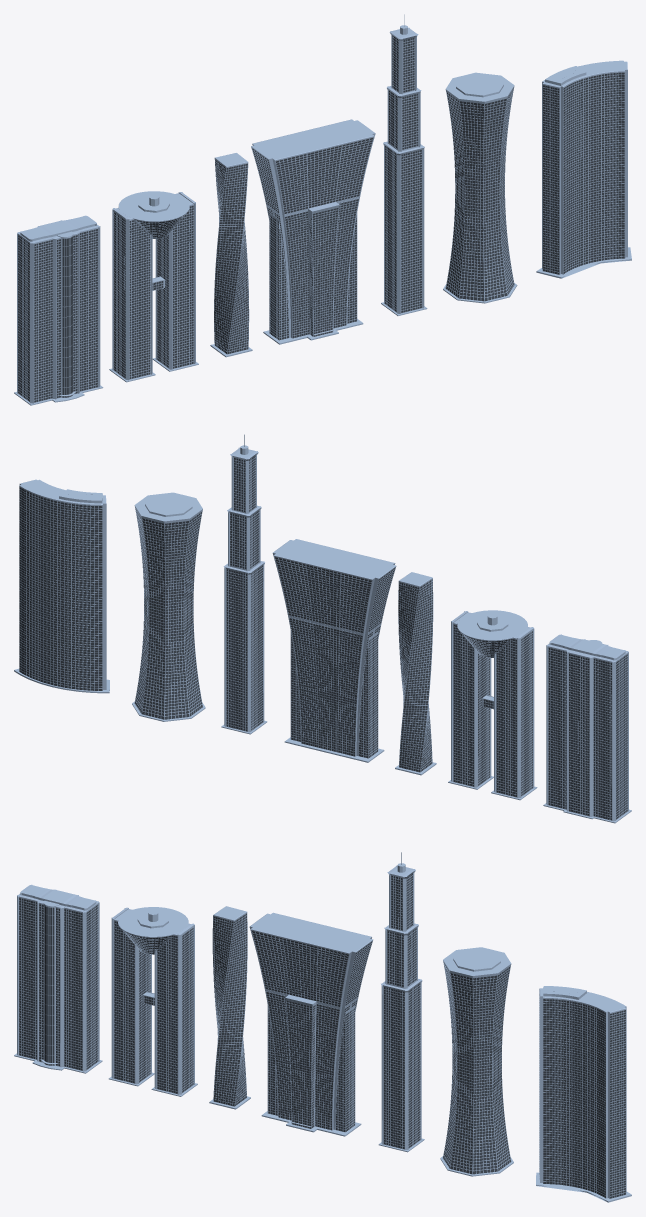
The model's file is Skyscrapers.fbx.
The picture shows the model from 3 angles, top to bottom: view 1: azimuth 30°, elevation 25°; view 2: azimuth 150°, elevation 25°; view 3: azimuth 330°, elevation 25°; orthographic projection.
Visible parts, largest first — view 1: Skyscraper4, Skyscraper7, Skyscraper1, Skyscraper2, Skyscraper6, Skyscraper5, Skyscraper3; view 2: Skyscraper4, Skyscraper7, Skyscraper2, Skyscraper1, Skyscraper6, Skyscraper5, Skyscraper3; view 3: Skyscraper4, Skyscraper7, Skyscraper2, Skyscraper1, Skyscraper6, Skyscraper5, Skyscraper3.
Boxes of the visible parts, x1,y1,x2,y2 form: Skyscraper4: [251, 119, 375, 344]; Skyscraper7: [536, 60, 631, 278]; Skyscraper1: [14, 215, 103, 405]; Skyscraper2: [109, 191, 198, 382]; Skyscraper6: [443, 72, 517, 303]; Skyscraper5: [381, 14, 427, 315]; Skyscraper3: [210, 153, 252, 357]; Skyscraper4: [272, 539, 396, 762]; Skyscraper7: [14, 479, 109, 693]; Skyscraper2: [448, 610, 537, 800]; Skyscraper1: [543, 634, 631, 823]; Skyscraper6: [132, 492, 205, 721]; Skyscraper5: [221, 434, 267, 734]; Skyscraper3: [395, 572, 436, 775]; Skyscraper4: [249, 912, 373, 1136]; Skyscraper7: [536, 986, 631, 1202]; Skyscraper2: [108, 907, 197, 1096]; Skyscraper1: [14, 884, 102, 1073]; Skyscraper6: [440, 947, 513, 1176]; Skyscraper5: [378, 852, 424, 1152]; Skyscraper3: [209, 906, 250, 1109].
Size of the model in its own units: 52120 by 23824 by 5273.
